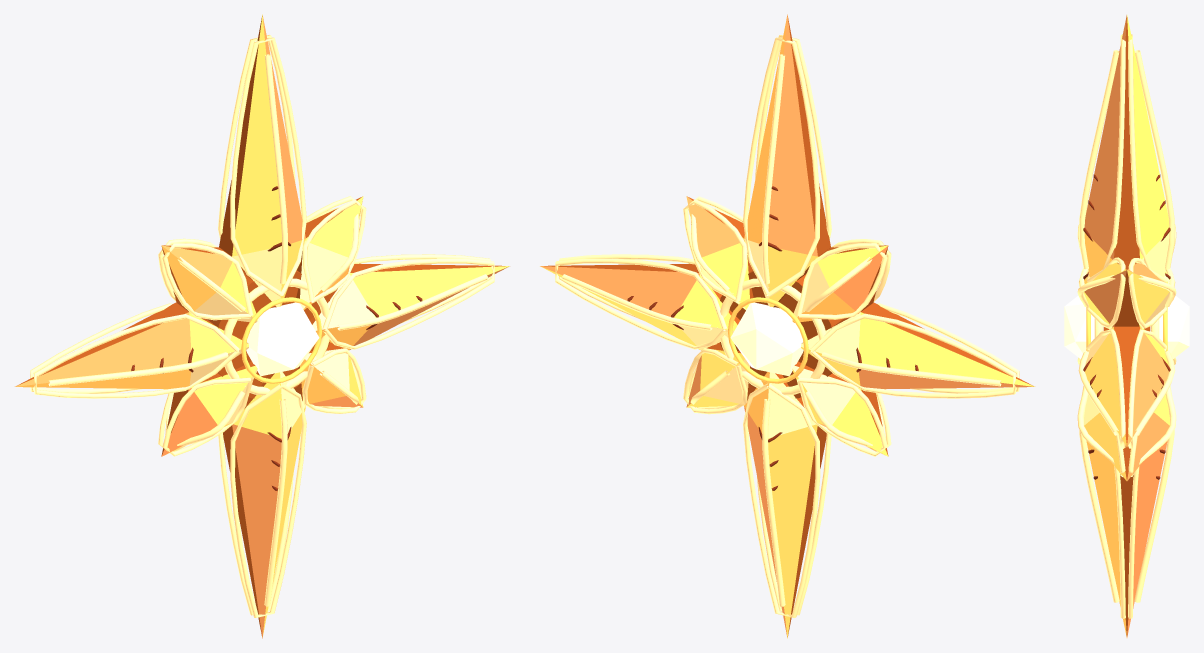
File: estrella.glb
The picture shows the model from 3 angles, left to right: view 1: azimuth 30°, elevation 25°; view 2: azimuth 150°, elevation 25°; view 3: azimuth 270°, elevation 25°; orthographic projection.
Visible parts, largest first — view 1: Forja (×8), Borde cincelado (×12), Nervadura (×4), Cristal facetado, Montura central, Corona de oro, Halo grabado; view 2: Forja (×8), Borde cincelado (×12), Nervadura (×4), Cristal facetado, Montura central, Corona de oro, Halo grabado; view 3: Forja (×5), Nervadura (×10), Borde cincelado (×8), Cristal facetado (×2).
Boxes of the visible parts, x1,y1,x2,y2 form: Forja (×8): (15, 14, 509, 638); Borde cincelado (×12): (30, 35, 494, 617); Nervadura (×4): (48, 54, 487, 606); Cristal facetado: (246, 302, 319, 376); Montura central: (207, 270, 329, 398); Corona de oro: (224, 278, 329, 395); Halo grabado: (241, 297, 322, 383); Forja (×8): (540, 14, 1034, 638); Borde cincelado (×12): (555, 35, 1019, 617); Nervadura (×4): (562, 54, 1001, 606); Cristal facetado: (730, 302, 803, 376); Montura central: (720, 270, 843, 398); Corona de oro: (720, 278, 825, 395); Halo grabado: (727, 297, 808, 383); Forja (×5): (1083, 15, 1170, 637); Nervadura (×10): (1077, 50, 1176, 602); Borde cincelado (×8): (1086, 34, 1166, 618); Cristal facetado (×2): (1064, 295, 1189, 358).
Size of the model in its own units: 1.18 by 1.42 by 0.2575.
